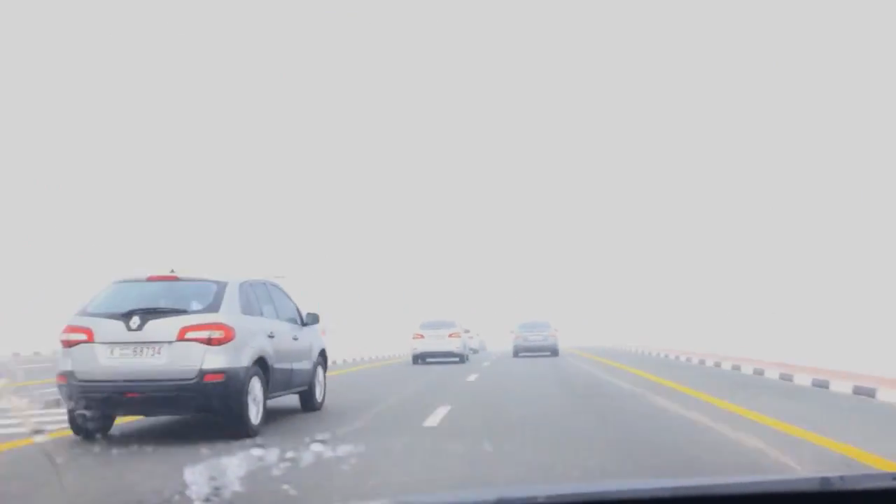car: (55, 267, 327, 441), (409, 320, 470, 364), (508, 320, 560, 356), (438, 324, 483, 356)
